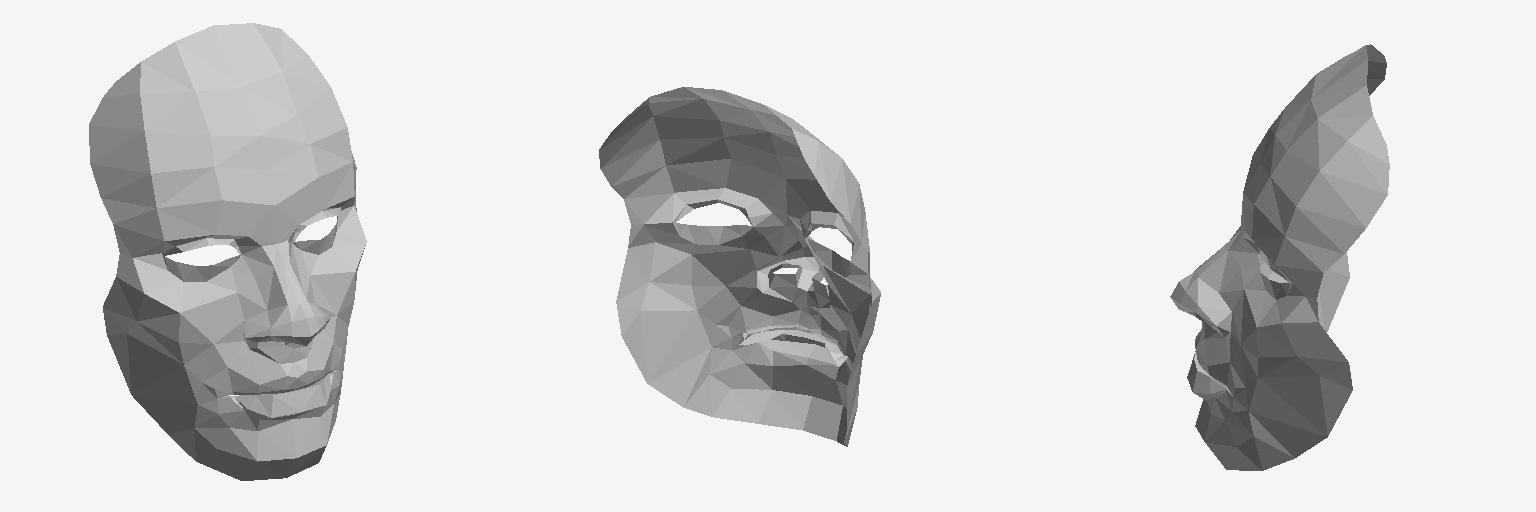
File: frontcal.obj
3 views of the same model, side by side, from view 1: azimuth 30°, elevation 25°; view 2: azimuth 150°, elevation 25°; view 3: azimuth 270°, elevation 25° (orthographic).
Visible parts, largest first — view 1: pascalle_Untitled; view 2: pascalle_Untitled; view 3: pascalle_Untitled.
Part boxes in pixels (x1,y1,x2,y2): pascalle_Untitled: (89, 23, 366, 480); pascalle_Untitled: (599, 87, 880, 446); pascalle_Untitled: (1170, 44, 1389, 470).
Bounding box in the file's own units: 2.45 × 3.72 × 1.87.